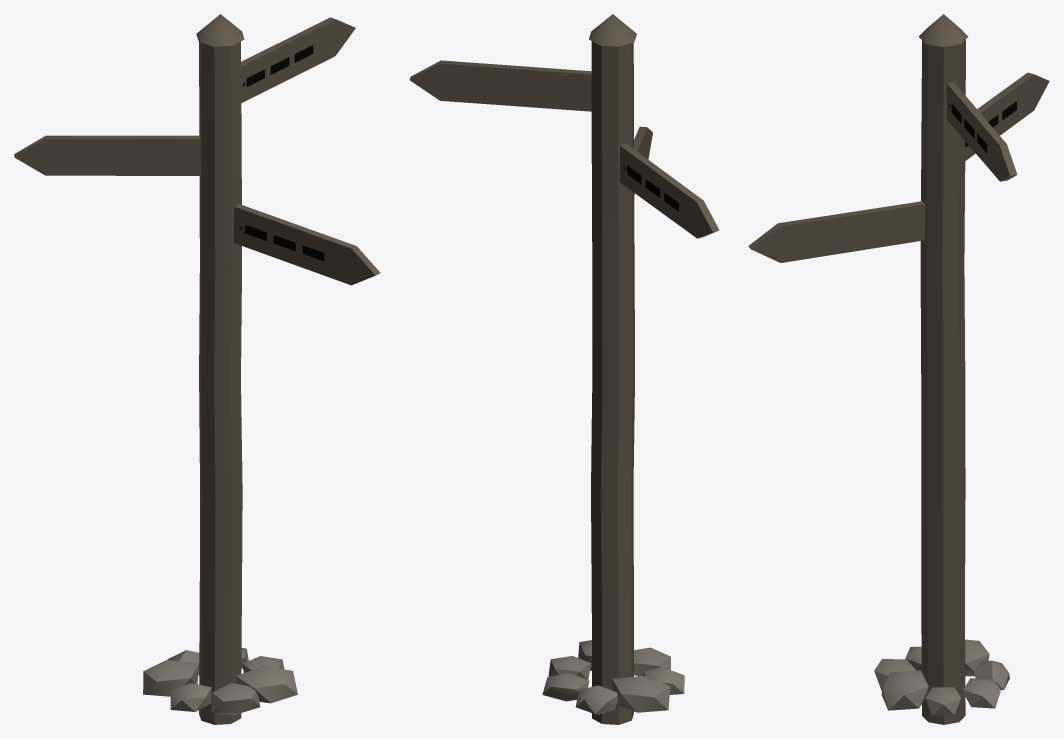
File: wegweiser.glb
3 views of the same model, side by side, from view 1: azimuth 30°, elevation 25°; view 2: azimuth 150°, elevation 25°; view 3: azimuth 270°, elevation 25° (orthographic).
Parts seen in each view (by area): view 1: wegweiser; view 2: wegweiser; view 3: wegweiser.
Boxes of the visible parts, x1,y1,x2,y2 form: wegweiser: (14,14,380,724); wegweiser: (409,14,719,724); wegweiser: (748,14,1049,724).
Bounding box in the file's own units: 1.2 × 2.48 × 0.9652.
